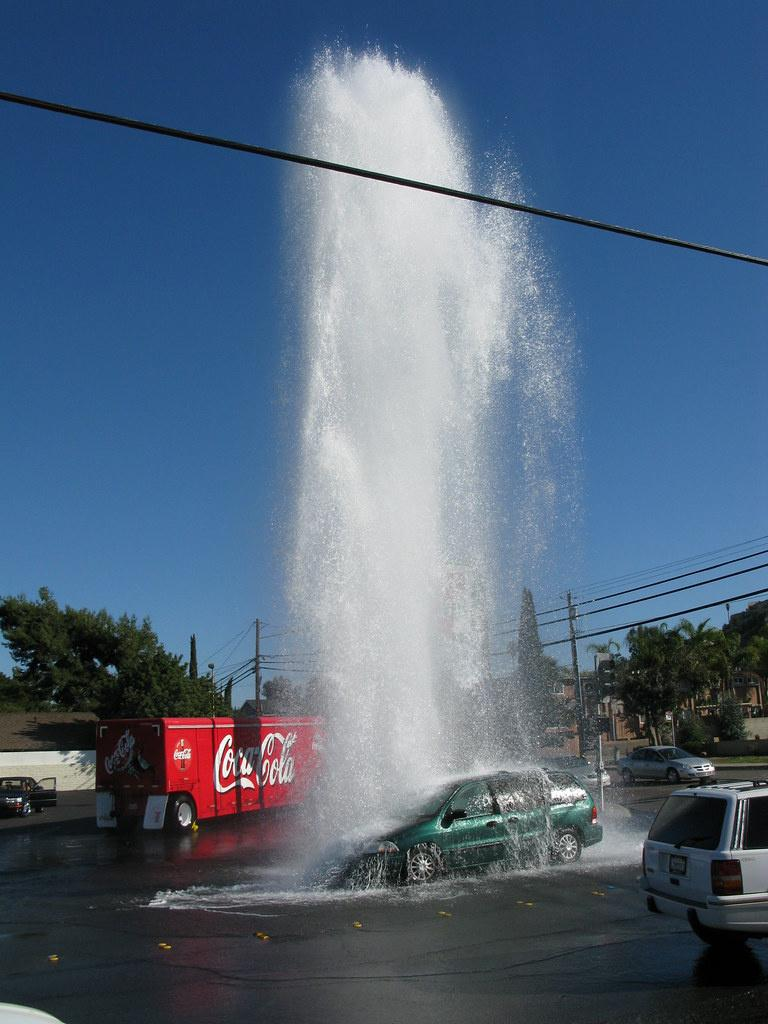pipe burst: (282, 50, 582, 852)
